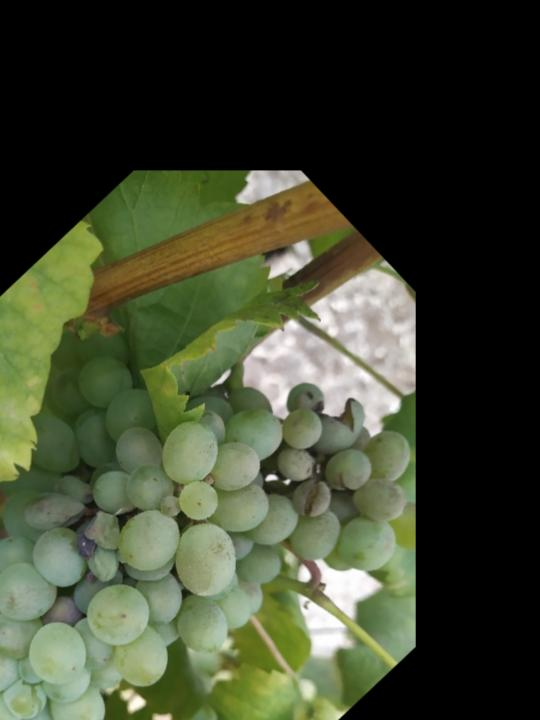grape: (0, 235, 462, 720)
